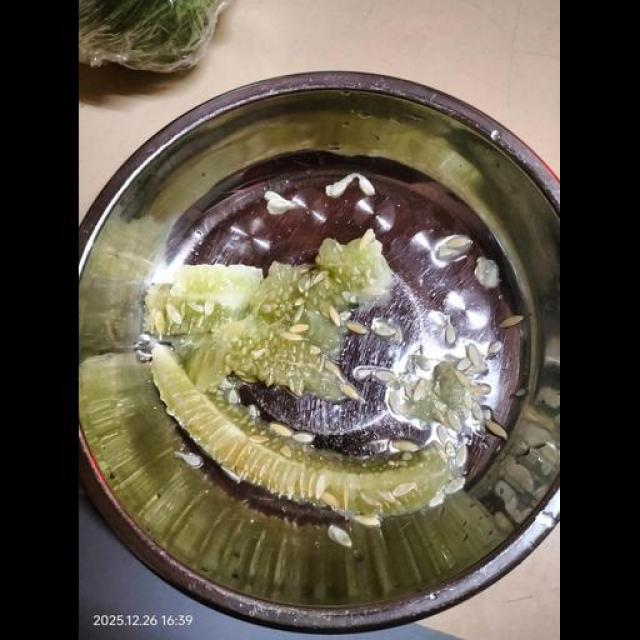organic: (79, 353, 503, 606), (148, 232, 452, 514), (152, 345, 451, 514), (148, 232, 392, 401), (183, 315, 342, 401), (79, 0, 223, 72), (145, 265, 262, 336)
